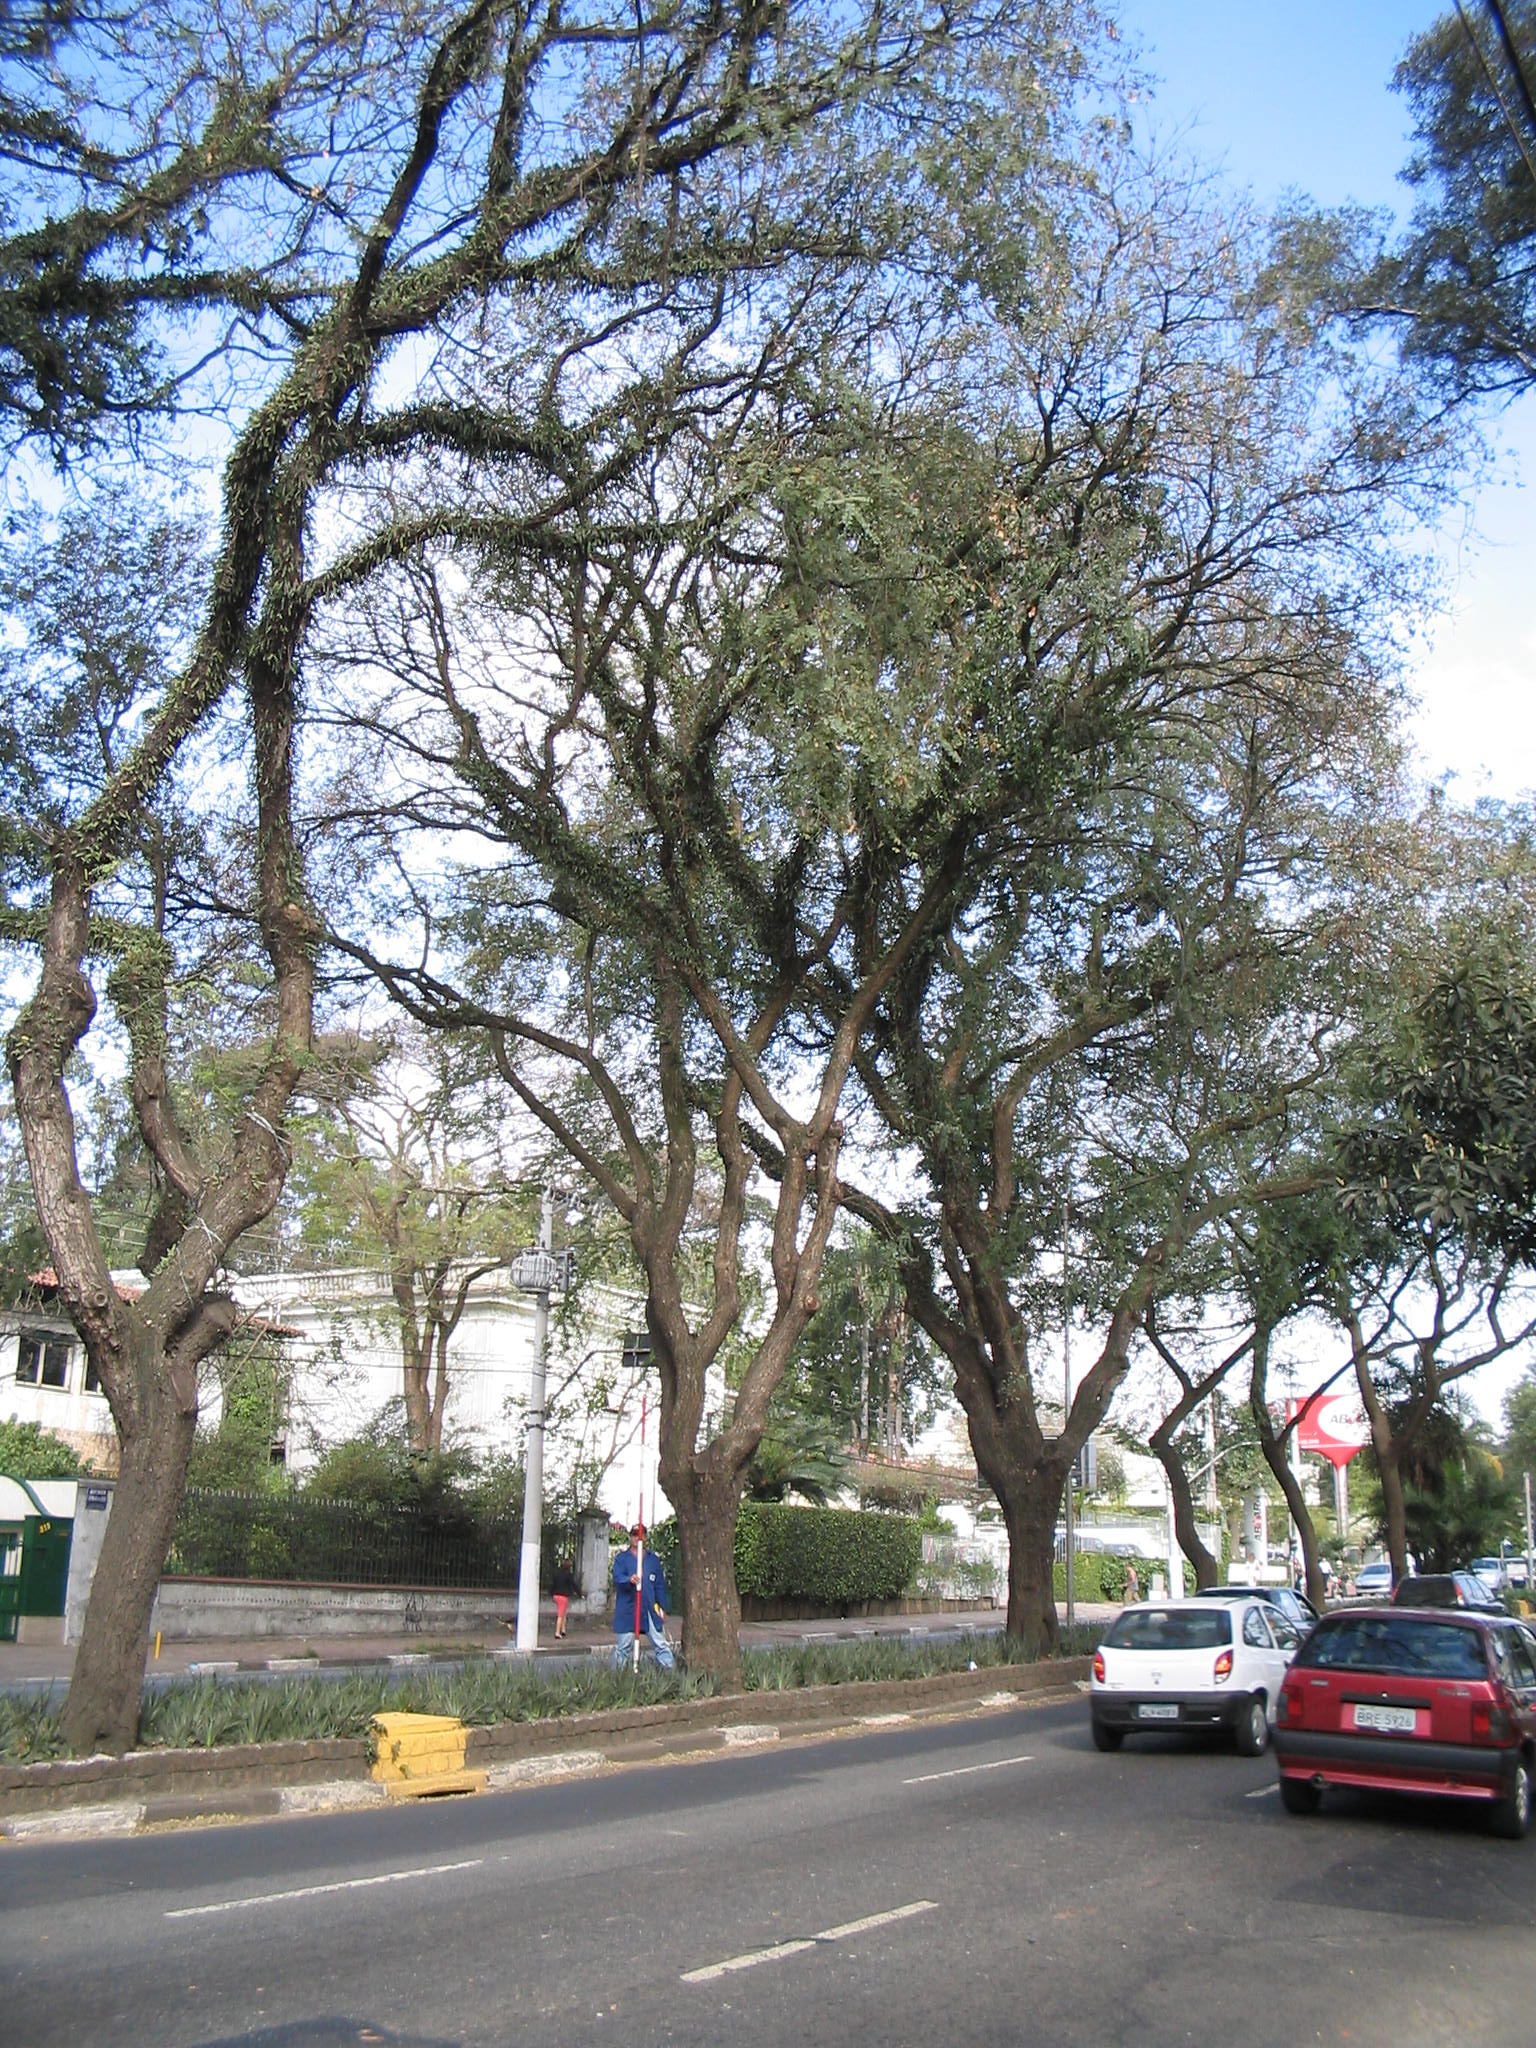stem: (37, 1382, 223, 1746), (963, 1471, 1100, 1653), (657, 1490, 779, 1674)
stick: (616, 1397, 658, 1675)
tree: (216, 163, 1509, 1674), (6, 3, 1042, 1746), (807, 618, 1501, 1653)
